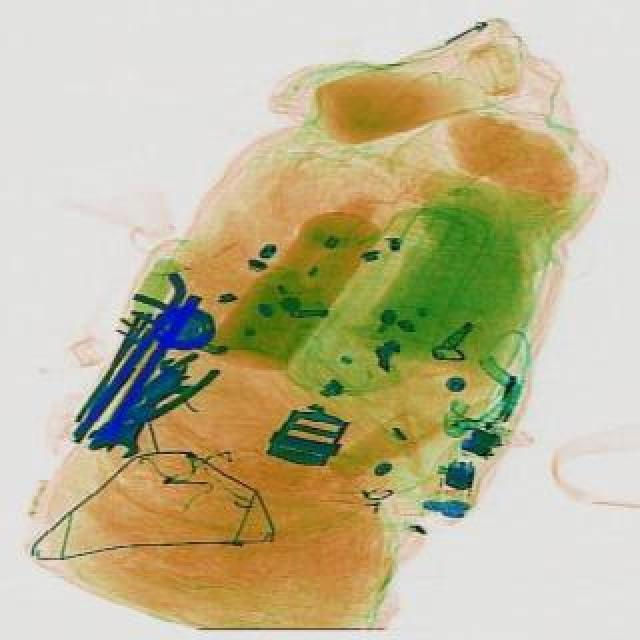scissors: (98, 352, 190, 464)
